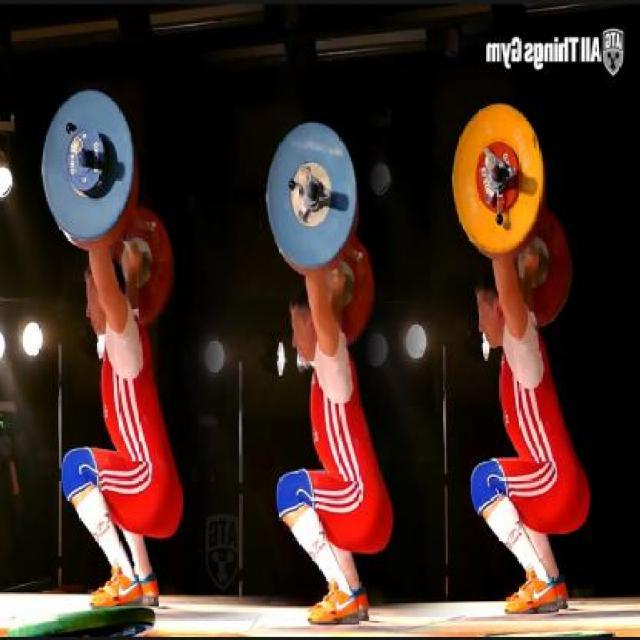Barbell: (483, 148, 500, 174), (70, 134, 86, 157), (300, 164, 314, 190)
